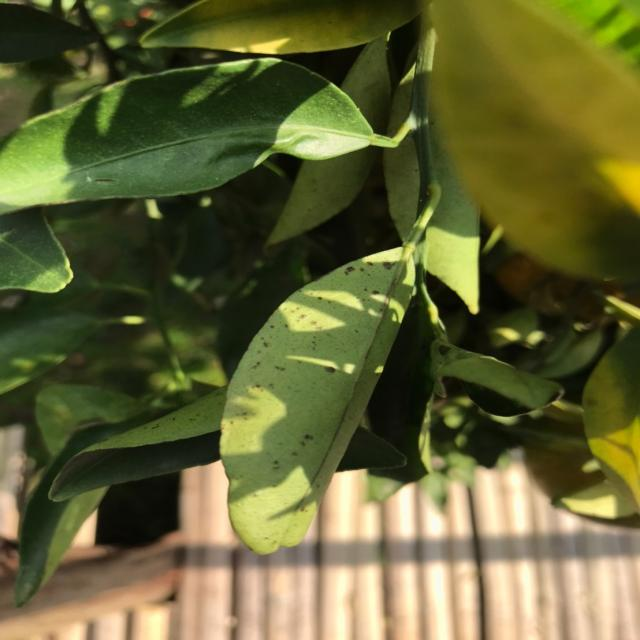melanose: (196, 250, 424, 541)
